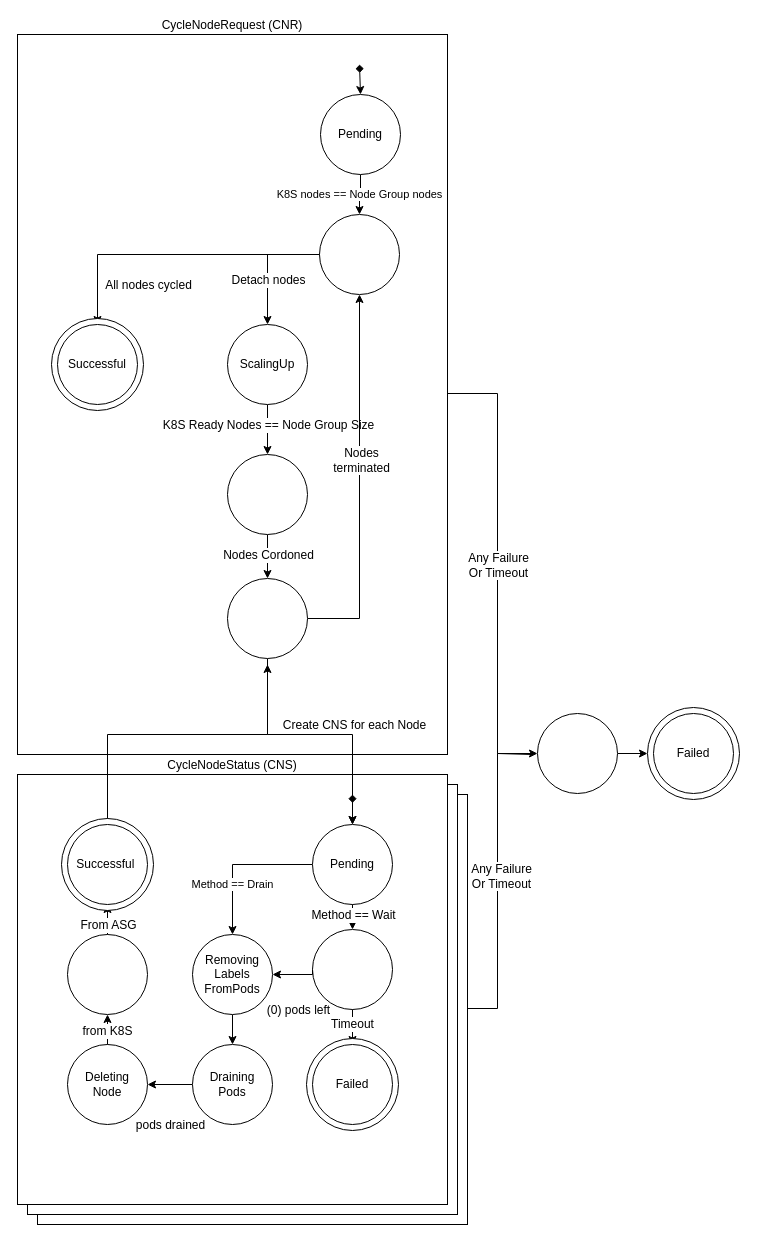
This 757x1242 diagram has some shape labels left out. Each missing label, with the box of its shape:
Cordoning Node: (226, 454, 308, 534)
Healing: (536, 712, 618, 794)
Initialised: (318, 214, 400, 294)
Terminating Node: (66, 934, 148, 1014)
Waiting Termination: (226, 578, 308, 658)
WaitingPods: (312, 928, 392, 1010)
